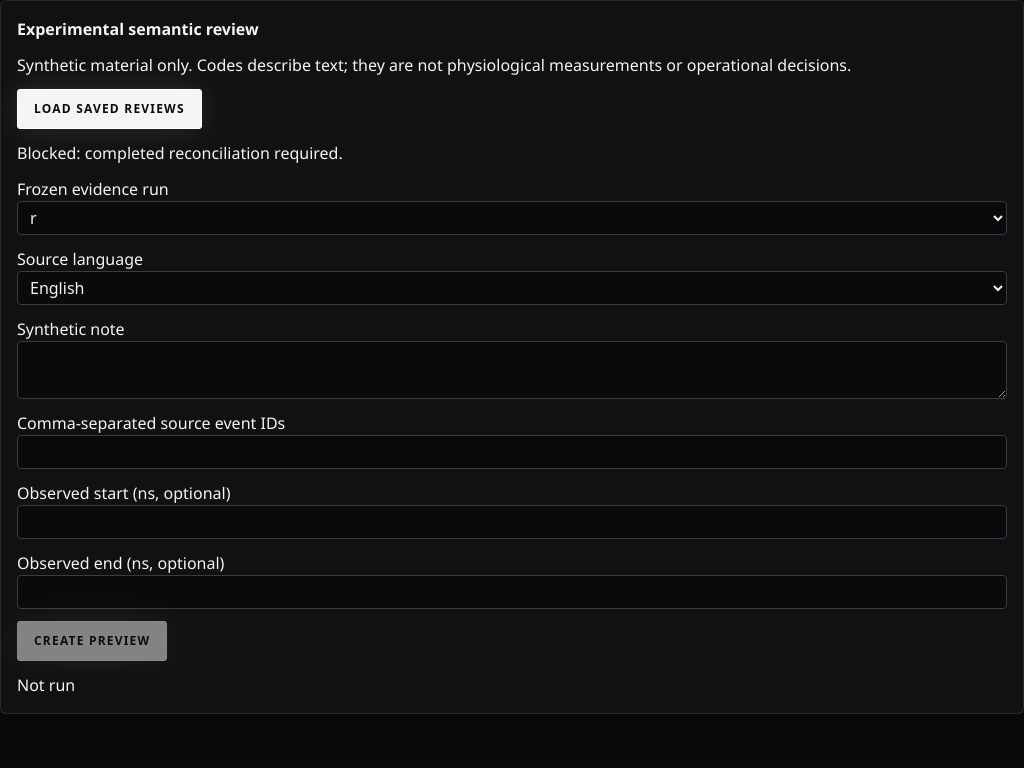
Scenario: experimental semantic review › shows blocked source and transport failures without a score
Expected: the text "Blocked: completed reconciliation required." is shown, [17, 142, 343, 164]
Expected: the button "Create preview" is disabled, [17, 621, 167, 661]
Step 1. Click the button "Load saved reviews" → click(109, 109), box [17, 89, 202, 129]
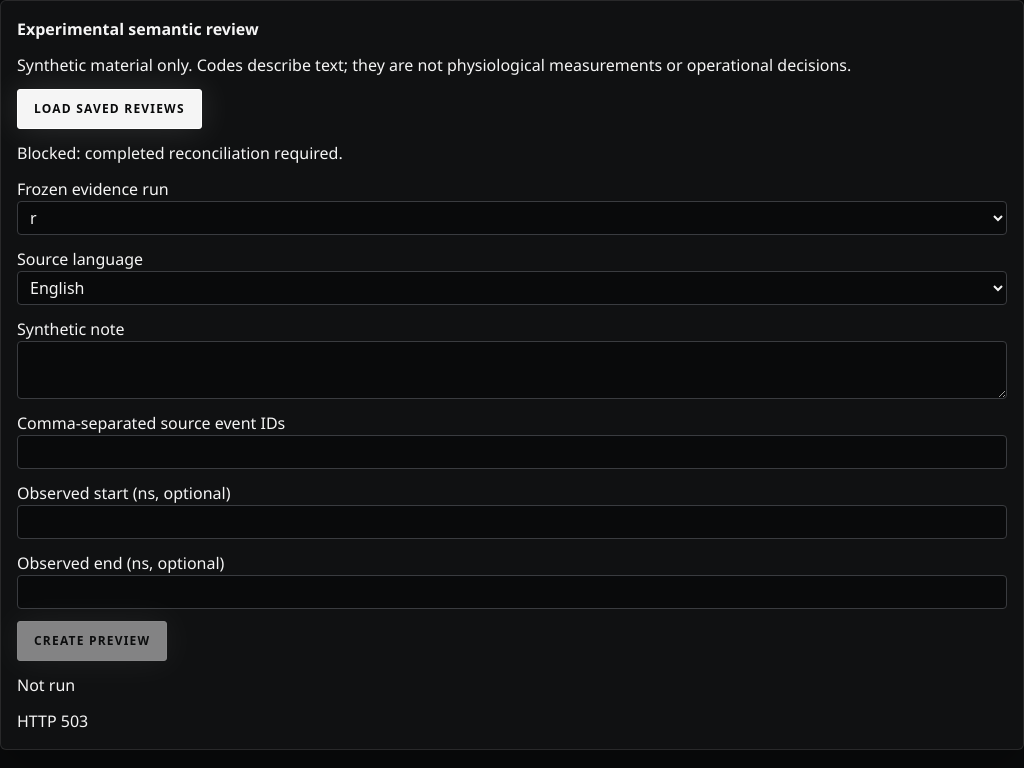
Result: the message "HTTP 503" is shown at [17, 710, 88, 732]
